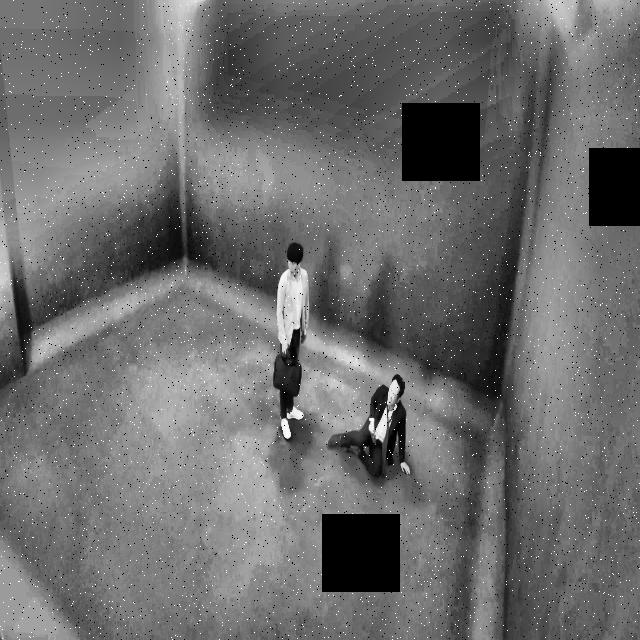assult: (274, 237, 410, 486)
